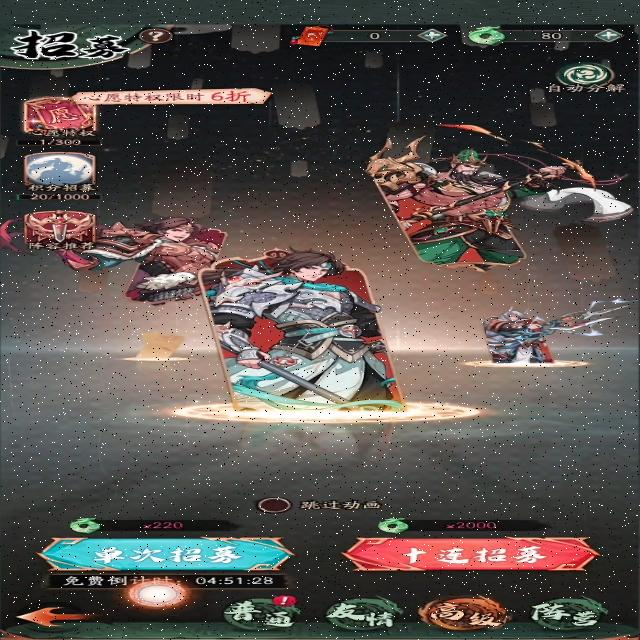hint-reddot: (263, 594, 300, 610)
operation-back: (12, 603, 97, 632)
operation-singleRecruit: (29, 536, 297, 574)
operation-tenRecruit: (330, 535, 606, 573)
